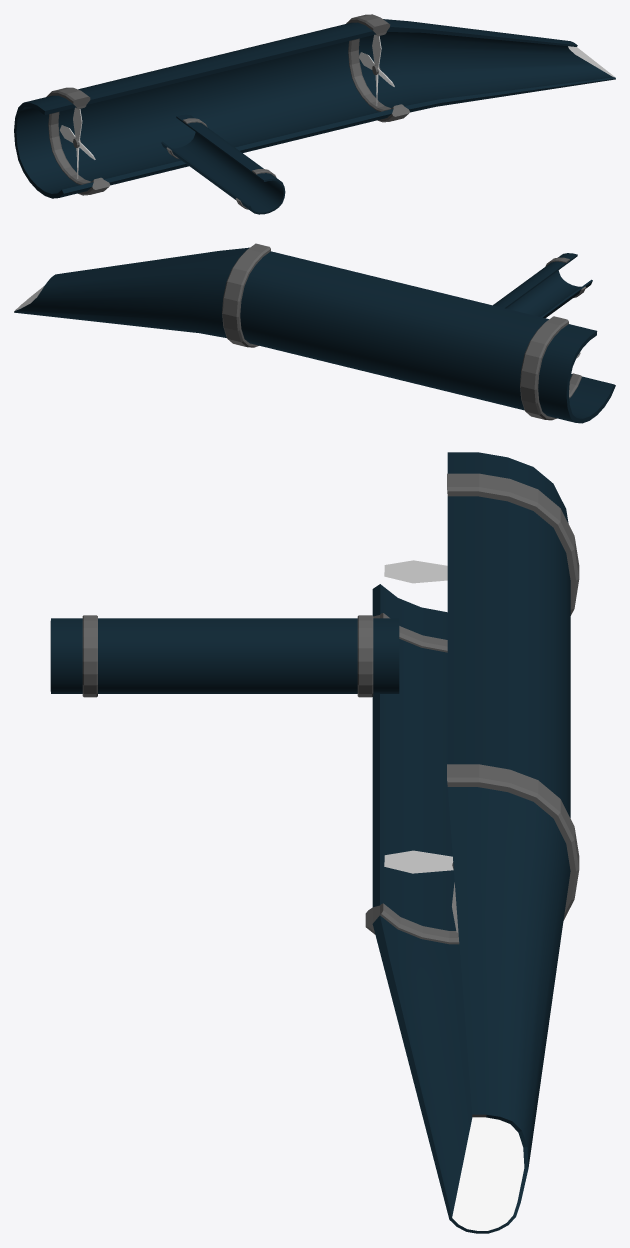
The model's file is Room2.fbx.
The picture shows the model from 3 angles, top to bottom: view 1: azimuth 30°, elevation 25°; view 2: azimuth 150°, elevation 25°; view 3: azimuth 270°, elevation 25°; orthographic projection. The views are drawn at different scales.
Visible parts, largest first — view 1: Platform_pipe_type2, IN_Pipe.003, Area2_fan2, Area2_fan1; view 2: Platform_pipe_type2, IN_Pipe.003; view 3: Platform_pipe_type2, IN_Pipe.003, Area2_fan2, Area2_fan1.
Boxes of the visible parts, left/top/right/bottom form: Platform_pipe_type2: left=14, top=14, right=615, bottom=198; IN_Pipe.003: left=161, top=114, right=285, bottom=214; Area2_fan2: left=359, top=34, right=394, bottom=105; Area2_fan1: left=59, top=107, right=94, bottom=169; Platform_pipe_type2: left=14, top=243, right=615, bottom=423; IN_Pipe.003: left=493, top=253, right=592, bottom=318; Platform_pipe_type2: left=365, top=452, right=579, bottom=1233; IN_Pipe.003: left=50, top=615, right=399, bottom=697; Area2_fan2: left=384, top=851, right=458, bottom=932; Area2_fan1: left=384, top=560, right=447, bottom=583.
Bounding box in the file's own units: 13677 × 2649 × 5480.
